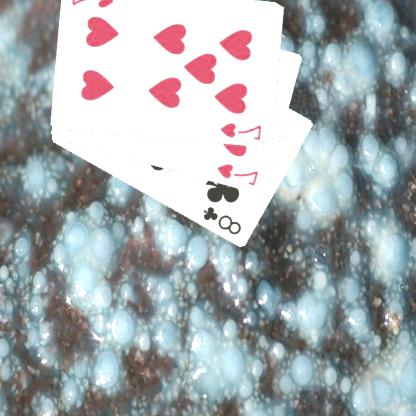7H: (216, 161, 262, 188), (219, 120, 265, 142), (70, 0, 116, 10)
8C: (202, 203, 245, 237)
